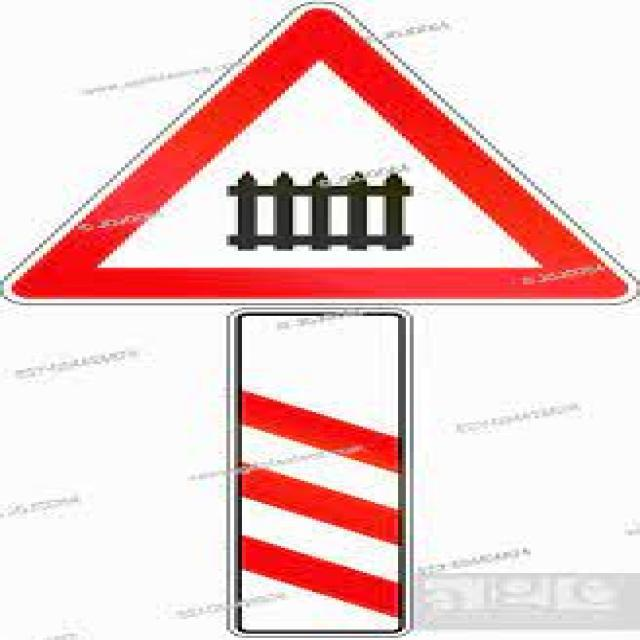guarded level crossing: (43, 18, 617, 309)
